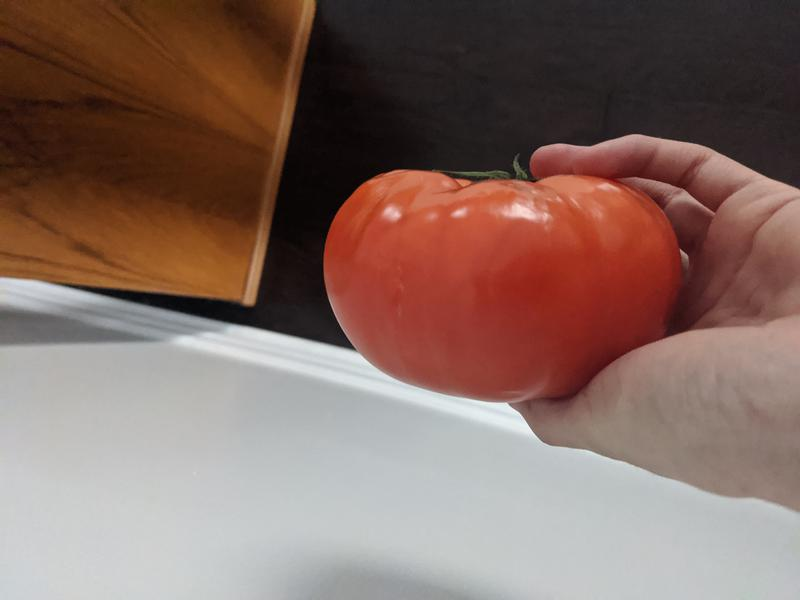tomato: (322, 166, 688, 405)
